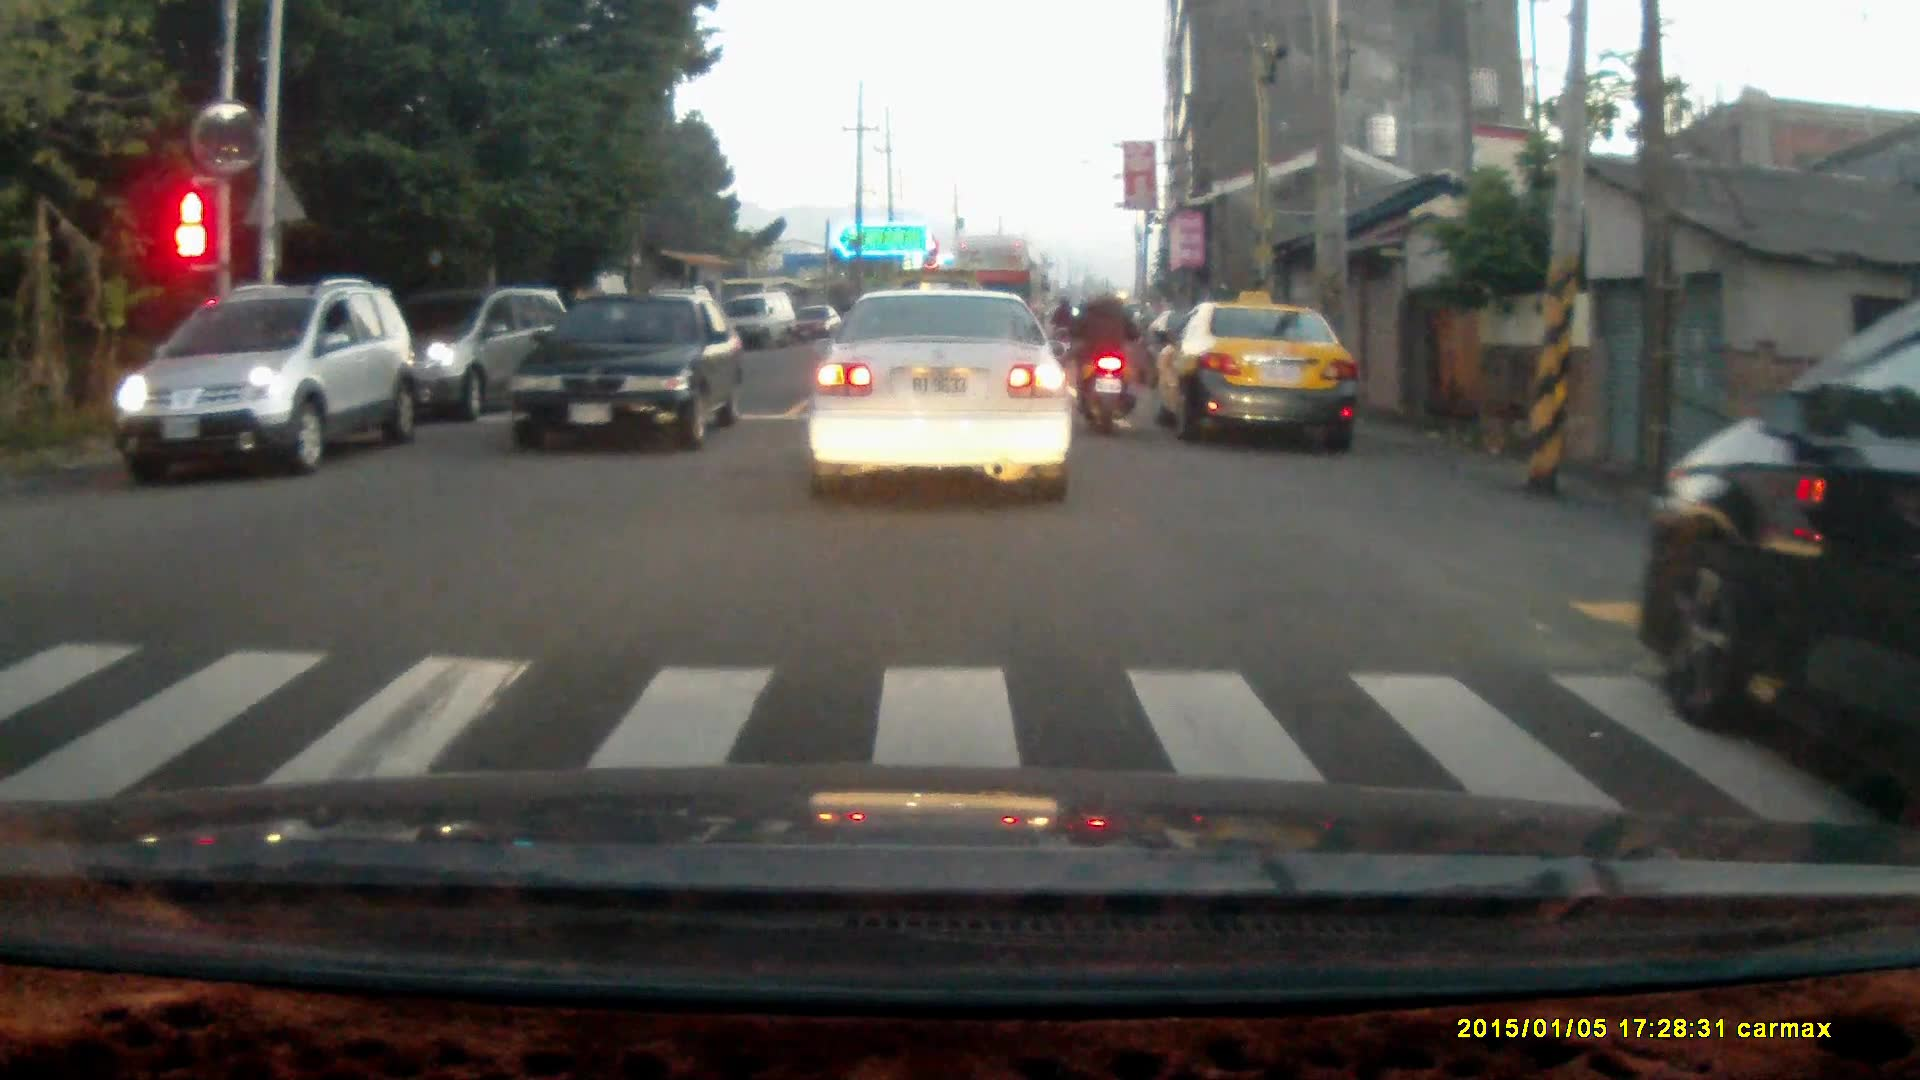rider: (1071, 275, 1143, 436)
vehicle: (1647, 308, 1920, 779), (119, 281, 415, 481), (808, 286, 1081, 502), (508, 286, 745, 455), (1158, 302, 1357, 449), (724, 288, 793, 349)
